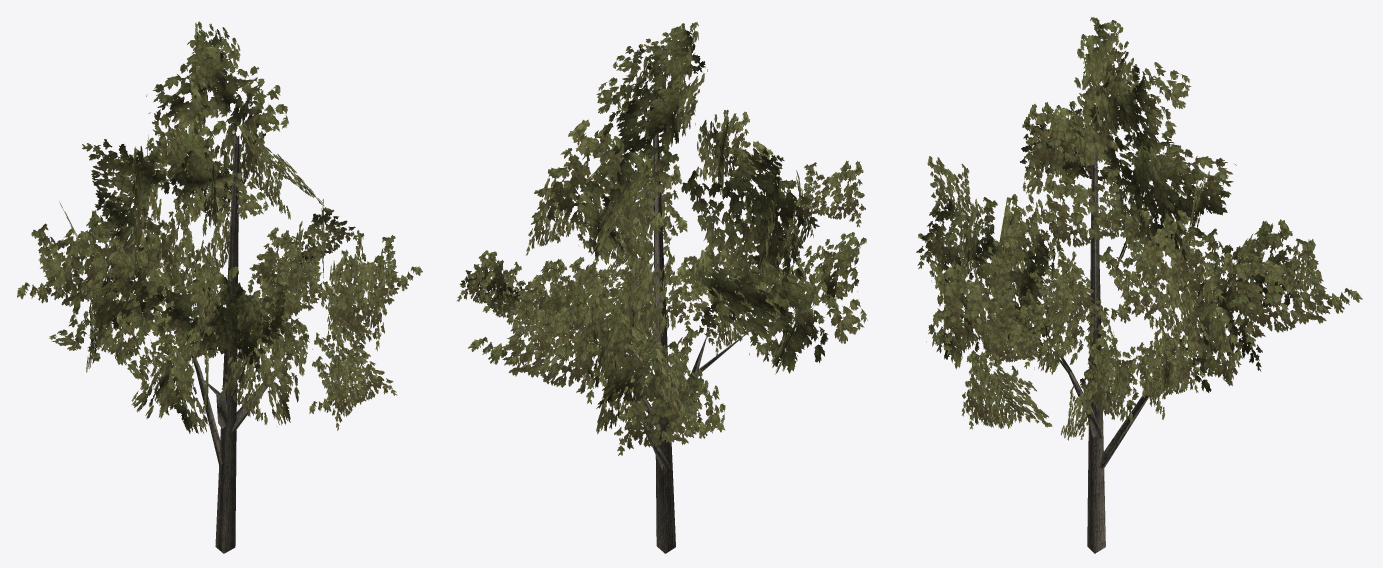
File: Vegetation_Tree02a_lod2.glb
3 renders of one model, left to right at view 1: azimuth 30°, elevation 25°; view 2: azimuth 150°, elevation 25°; view 3: azimuth 270°, elevation 25°, orthographic. The views are drawn at different scales.
Parts seen in each view (by area): view 1: zw_tree02a_lod2_0; view 2: zw_tree02a_lod2_0; view 3: zw_tree02a_lod2_0.
Part boxes in pixels (<box>): zw_tree02a_lod2_0: <box>17,21,422,553</box>; zw_tree02a_lod2_0: <box>457,22,867,553</box>; zw_tree02a_lod2_0: <box>916,17,1362,553</box>.
Bounding box in the file's own units: 9.61 × 14.1 × 11.22.
Materials: 2 (2 with a texture image).
